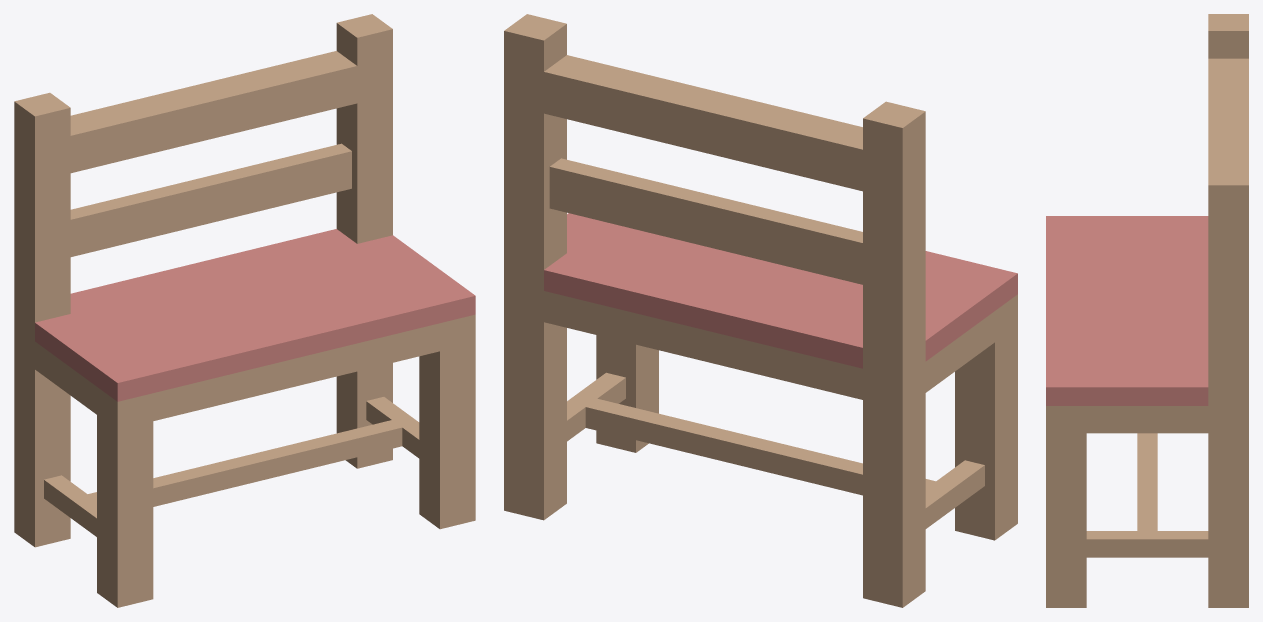
The model's file is benchCushion.glb.
The picture shows the model from 3 angles, left to right: view 1: azimuth 30°, elevation 25°; view 2: azimuth 150°, elevation 25°; view 3: azimuth 270°, elevation 25°; orthographic projection. The views are drawn at different scales.
Visible parts, largest first — view 1: benchCushion; view 2: benchCushion; view 3: benchCushion.
Boxes of the visible parts, x1,y1,x2,y2 form: benchCushion: (14,14,475,607); benchCushion: (504,14,1017,607); benchCushion: (1046,14,1248,607).
Size of the model in its own units: 0.4 by 0.46 by 0.2.
